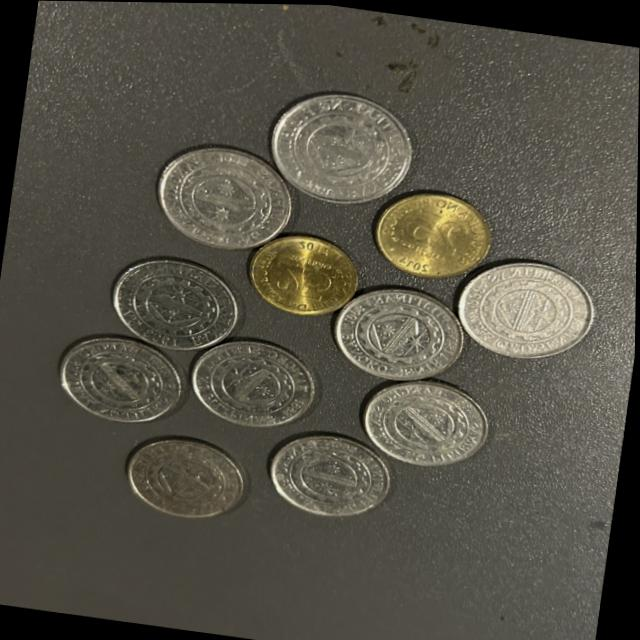1_Old_Back: (252, 88, 416, 218), (464, 245, 621, 369), (148, 140, 291, 257), (191, 332, 317, 438), (271, 426, 394, 526), (341, 294, 465, 392), (367, 366, 486, 468), (130, 426, 250, 526), (336, 288, 456, 380), (113, 257, 225, 353), (65, 326, 173, 421)
25Cent_New_Front: (375, 191, 486, 273), (252, 228, 351, 315)
